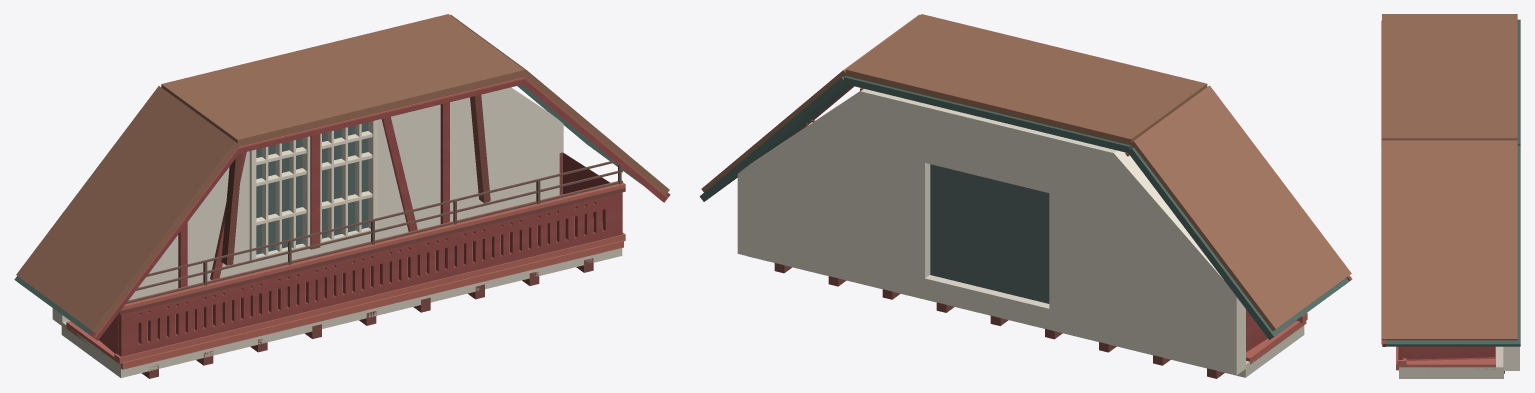
The model's file is kwok-balcony-far.glb.
3 renders of one model, left to right at view 1: azimuth 30°, elevation 25°; view 2: azimuth 150°, elevation 25°; view 3: azimuth 270°, elevation 25°, orthographic. The views are drawn at different scales.
Visible parts, largest first — view 1: 郭氏花园住宅折坡山墙木阳台; view 2: 郭氏花园住宅折坡山墙木阳台; view 3: 郭氏花园住宅折坡山墙木阳台.
Part boxes in pixels (left/top/right/bottom): 郭氏花园住宅折坡山墙木阳台: left=14, top=14, right=670, bottom=378; 郭氏花园住宅折坡山墙木阳台: left=699, top=14, right=1352, bottom=378; 郭氏花园住宅折坡山墙木阳台: left=1381, top=14, right=1520, bottom=378.
Size of the model in its own units: 7.46 by 2.79 by 1.75.
Materials: 10 (1 with a texture image).
